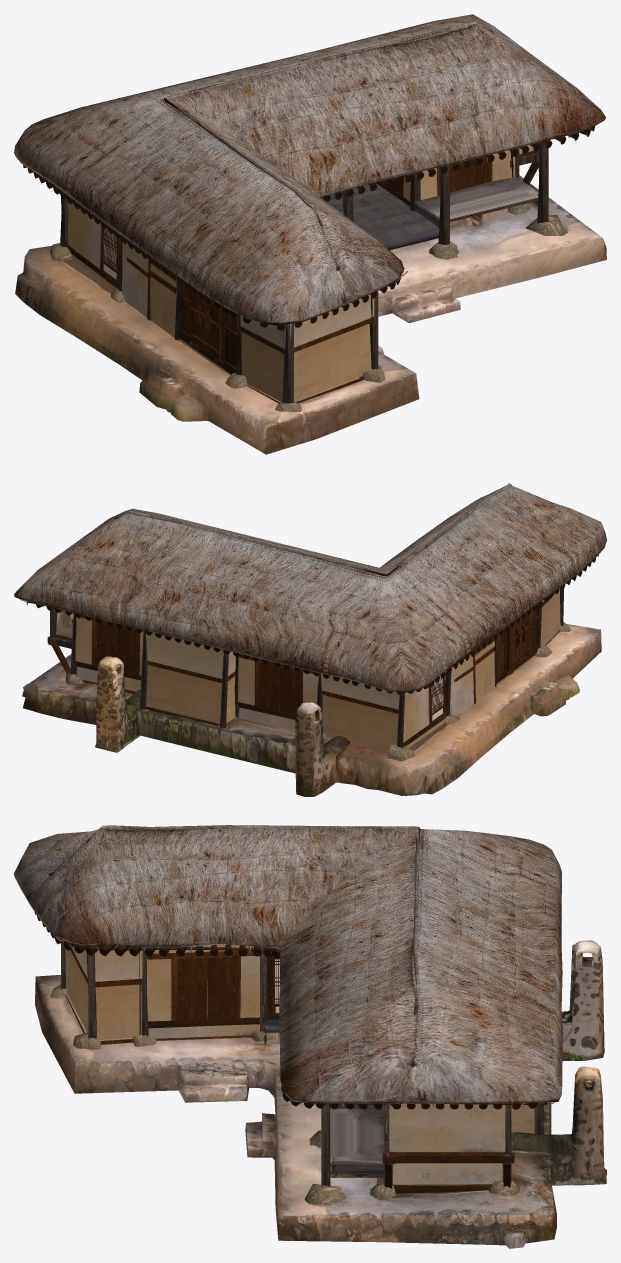
The model's file is choga1.glb.
3 views of the same model, one above another, from view 1: azimuth 30°, elevation 25°; view 2: azimuth 150°, elevation 25°; view 3: azimuth 270°, elevation 25° (orthographic). The views are drawn at different scales.
Visible parts, largest first — view 1: H_02_Roof_001, H_02_Round_001, H_02_Wall_01_house_Re_Ground_02_0, H_02_Wood_47, H_02_Wall_05_house_Re_Ground_02_0, H_02_Wall_08_house_Re_Ground_02_0, H_02_Wood_48, H_02_Wall_02_house_Re_Ground_02_0, H_02_Wall_13_house_Re_Ground_03_0, H_02_Wall_09_house_Re_Ground_03_0, H_02_Wood_27_house_Re_Wood_02_0, H_02_Wood_33_house_Re_Wood_02_0 (+3 smaller); view 2: H_02_Roof_001, H_02_Round_001, H_02_Round_002, H_02_Wall_07_house_Re_Ground_02_0, H_02_Wall_06_house_Re_Ground_02_0, H_02_Wall_10_house_Re_Ground_03_0, H_02_Wall_11_house_Re_Ground_03_0, H_02_Wall_08_house_Re_Ground_02_0, H_02_Wall_05_house_Re_Ground_02_0, H_02_Wall_09_house_Re_Ground_03_0, H_02_Wall_02_house_Re_Ground_02_0, H_02_Wall_09_house_Re_Door_0 (+3 smaller); view 3: H_02_Roof_001, H_02_Round_001, H_02_Wall_15_house_Re_Ground_03_0, H_02_Round_002, H_02_Wall_18_house_Re_Ground_04_0, H_02_Wall_03_house_Re_Ground_02_0, H_02_Wood_48, H_02_Wall_04_house_Re_Ground_04_0, H_02_Wall_01_house_Re_Ground_02_0, H_02_Wood_40_house_Re_Wood_01_0, H_02_Wood_27_house_Re_Wood_02_0, H_02_Wood_34_house_Re_Wood_02_0 (+4 smaller).
Part boxes in pixels (box(x1,y1,x2,y2)): H_02_Roof_001: box(14, 14, 605, 325); H_02_Round_001: box(15, 175, 606, 454); H_02_Wall_01_house_Re_Ground_02_0: box(290, 294, 374, 403); H_02_Wood_47: box(327, 183, 439, 249); H_02_Wall_05_house_Re_Ground_02_0: box(179, 282, 237, 374); H_02_Wall_08_house_Re_Ground_02_0: box(122, 242, 176, 337); H_02_Wood_48: box(414, 177, 538, 227); H_02_Wall_02_house_Re_Ground_02_0: box(240, 315, 286, 403); H_02_Wall_13_house_Re_Ground_03_0: box(420, 150, 514, 215); H_02_Wall_09_house_Re_Ground_03_0: box(68, 203, 119, 282); H_02_Wood_27_house_Re_Wood_02_0: box(537, 142, 548, 223); H_02_Wood_33_house_Re_Wood_02_0: box(282, 323, 293, 403); H_02_Roof_001: box(14, 483, 606, 692); H_02_Round_001: box(22, 624, 601, 795); H_02_Round_002: box(95, 656, 350, 796); H_02_Wall_07_house_Re_Ground_02_0: box(143, 631, 235, 726); H_02_Wall_06_house_Re_Ground_02_0: box(321, 673, 399, 751); H_02_Wall_10_house_Re_Ground_03_0: box(238, 654, 318, 730); H_02_Wall_11_house_Re_Ground_03_0: box(75, 615, 142, 693); H_02_Wall_08_house_Re_Ground_02_0: box(451, 638, 494, 715); H_02_Wall_05_house_Re_Ground_02_0: box(496, 605, 539, 685); H_02_Wall_09_house_Re_Ground_03_0: box(403, 677, 446, 742); H_02_Wall_02_house_Re_Ground_02_0: box(540, 587, 560, 645); H_02_Wall_09_house_Re_Door_0: box(430, 676, 444, 723); H_02_Roof_001: box(14, 825, 562, 1104); H_02_Round_001: box(35, 975, 556, 1248); H_02_Wall_15_house_Re_Ground_03_0: box(147, 944, 265, 1040); H_02_Round_002: box(511, 940, 606, 1185); H_02_Wall_18_house_Re_Ground_04_0: box(389, 1103, 505, 1155); H_02_Wall_03_house_Re_Ground_02_0: box(95, 944, 142, 1044); H_02_Wood_48: box(330, 1108, 383, 1178); H_02_Wall_04_house_Re_Ground_04_0: box(385, 1118, 502, 1193); H_02_Wall_01_house_Re_Ground_02_0: box(65, 948, 91, 1033); H_02_Wood_40_house_Re_Wood_01_0: box(382, 1152, 514, 1163); H_02_Wood_27_house_Re_Wood_02_0: box(321, 1103, 330, 1186); H_02_Wood_34_house_Re_Wood_02_0: box(86, 953, 96, 1039).
Size of the model in its own units: 12.82 by 5.1 by 12.29.
11 materials, 11 textured.
